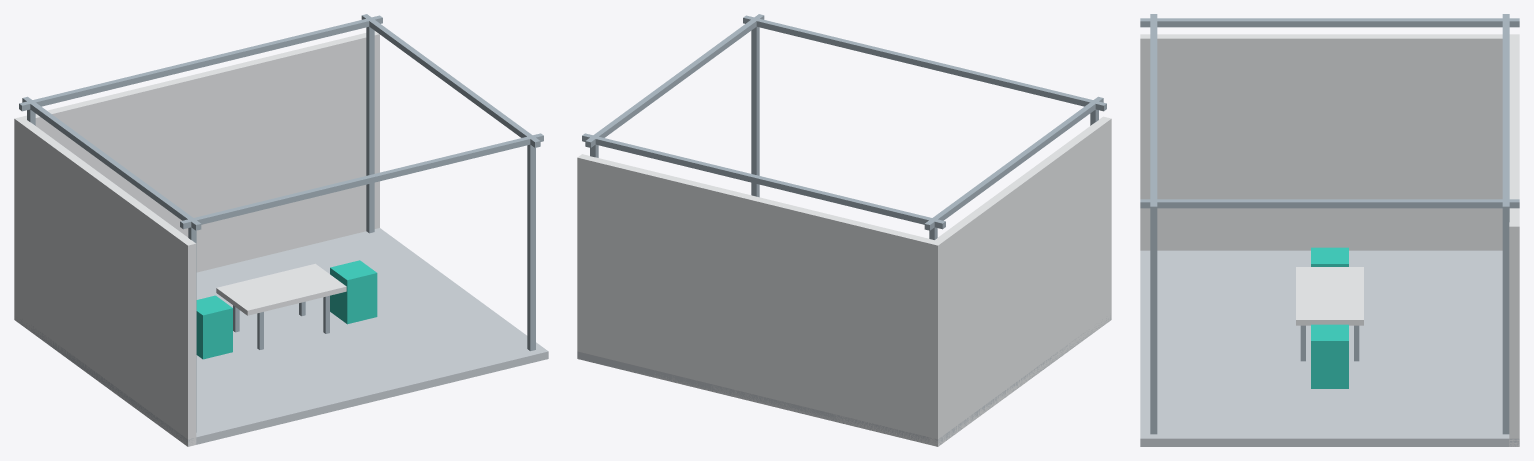
3 renders of one model, left to right at view 1: azimuth 30°, elevation 25°; view 2: azimuth 150°, elevation 25°; view 3: azimuth 270°, elevation 25°, orthographic. The views are drawn at different scales.
Visible parts, largest first — view 1: Exhibition Booth Concept; view 2: Exhibition Booth Concept; view 3: Exhibition Booth Concept.
Boxes of the visible parts, x1=… form: Exhibition Booth Concept: x1=14, y1=14, x2=548, y2=446; Exhibition Booth Concept: x1=577, y1=14, x2=1111, y2=446; Exhibition Booth Concept: x1=1140, y1=14, x2=1519, y2=446.
Size of the model in its own units: 6 by 3.49 by 5.
